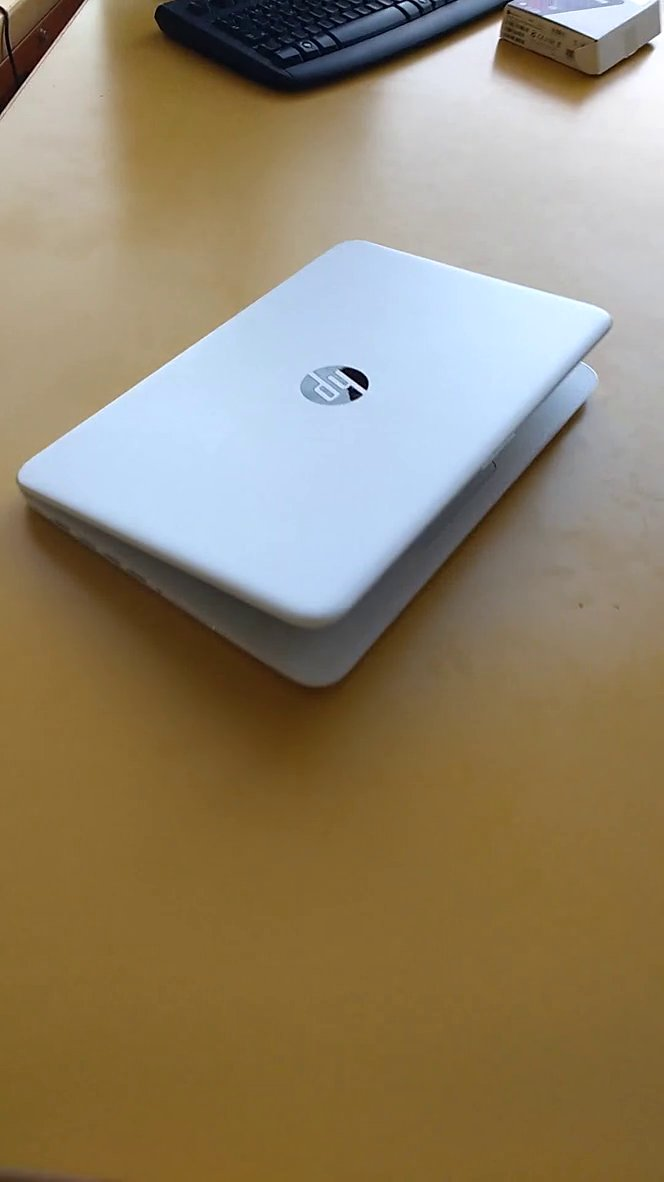laptop: (7, 218, 634, 744)
